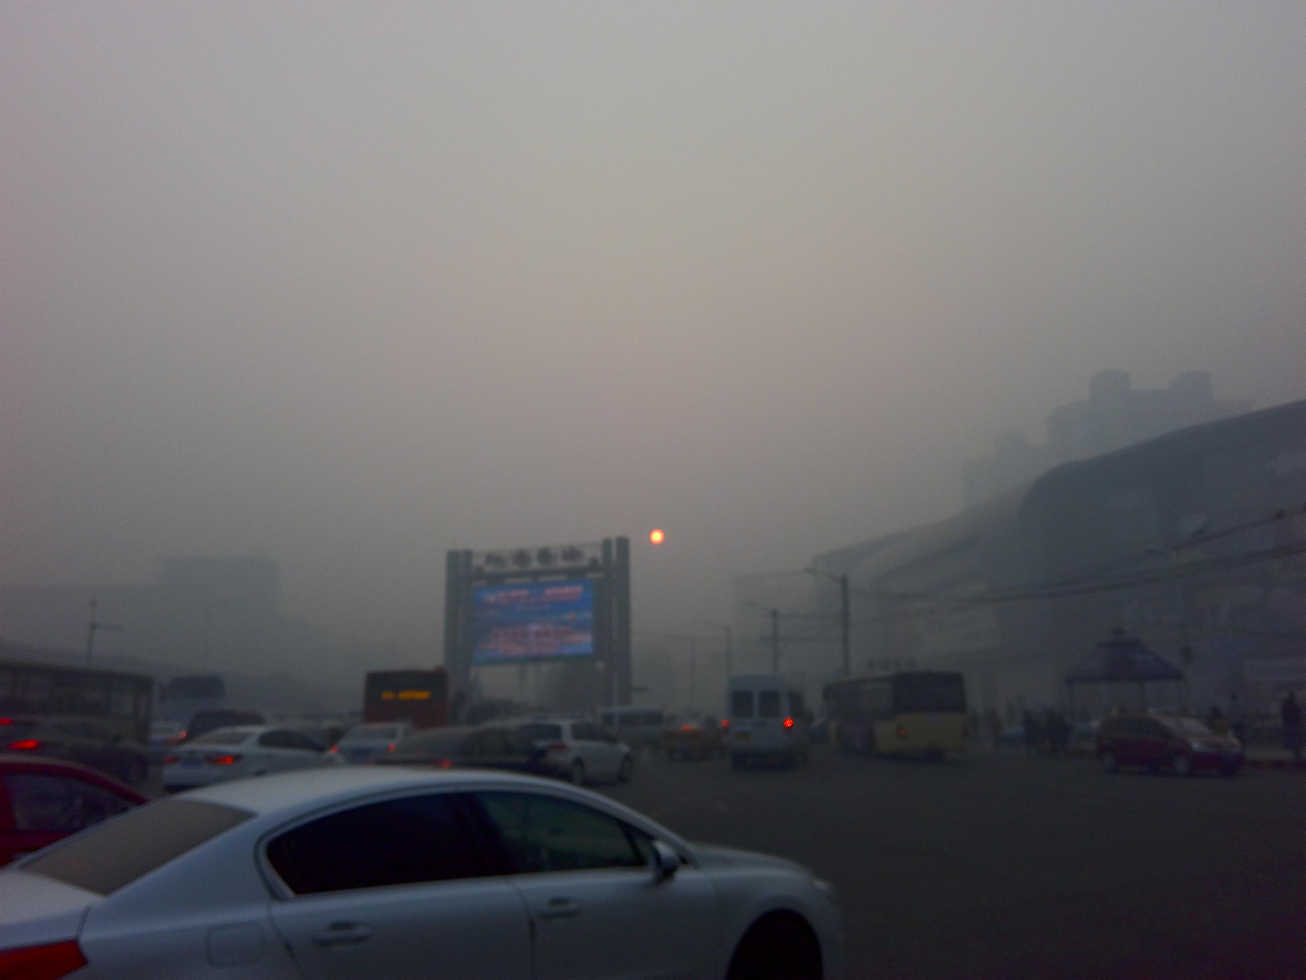bus: (1, 659, 170, 793), (821, 671, 968, 760), (363, 666, 453, 771), (722, 673, 816, 769), (155, 673, 228, 744)
car: (1, 766, 841, 980), (1, 752, 188, 891), (366, 727, 579, 813), (161, 724, 336, 803), (1093, 705, 1244, 779), (481, 717, 635, 784), (321, 722, 427, 773), (593, 703, 666, 752), (658, 708, 722, 759)
